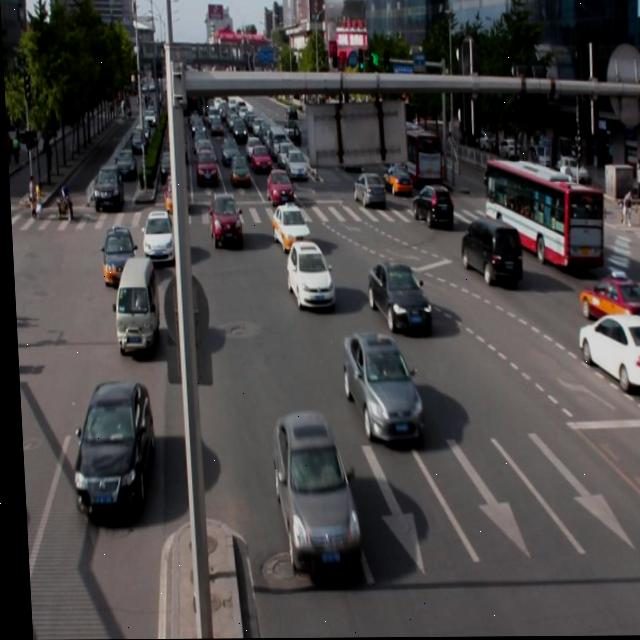car: (268, 411, 355, 576), (66, 378, 153, 515), (338, 330, 419, 443), (572, 312, 640, 389), (364, 259, 430, 335), (456, 215, 519, 284), (575, 273, 640, 333), (283, 240, 332, 310), (268, 203, 309, 252), (139, 208, 173, 264)
truck: (109, 254, 156, 354)
van: (482, 158, 600, 267)
